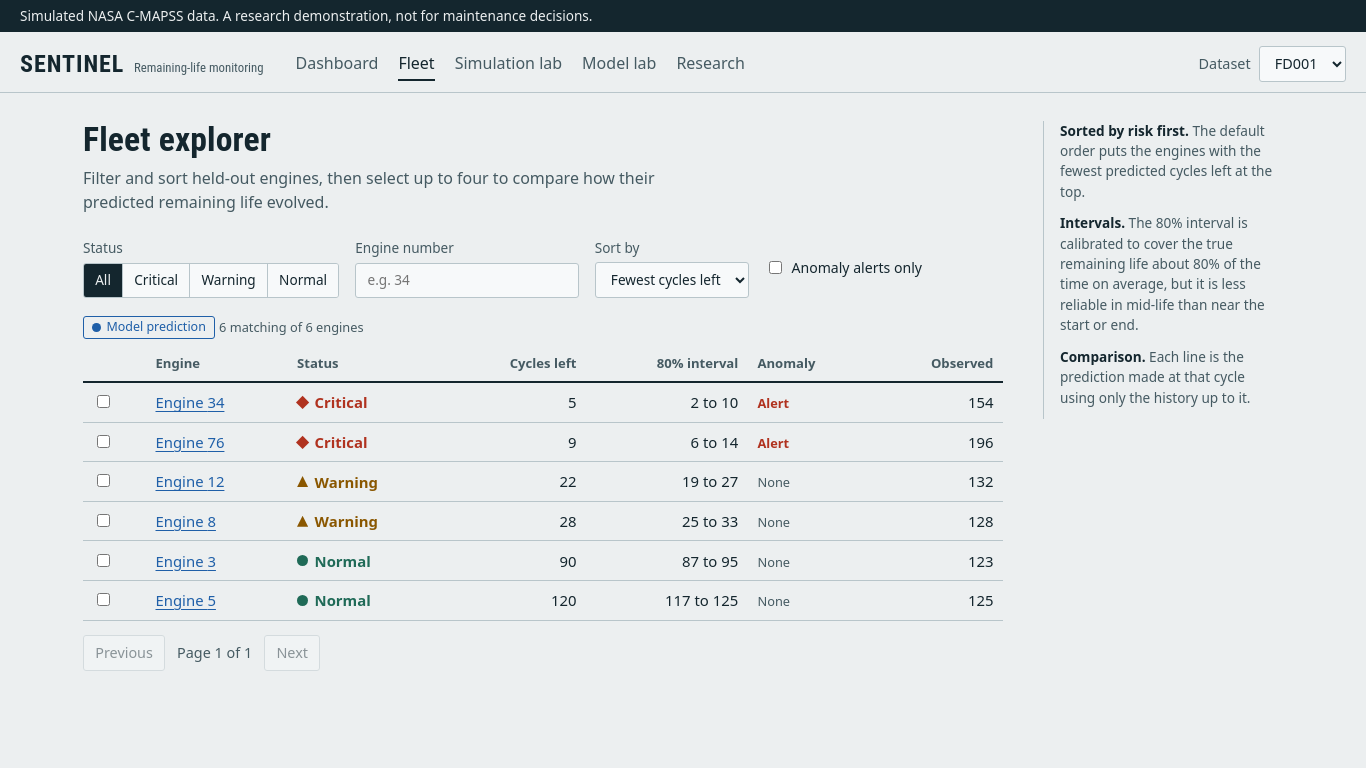
Test: fleet explorer and engine selection › limits comparison to four engines
expect the link "Engine 34" is shown: met, box [156,392,224,412]
Click the checkbox named "Compare engine 34" at (103, 402), box [97,395,110,408]
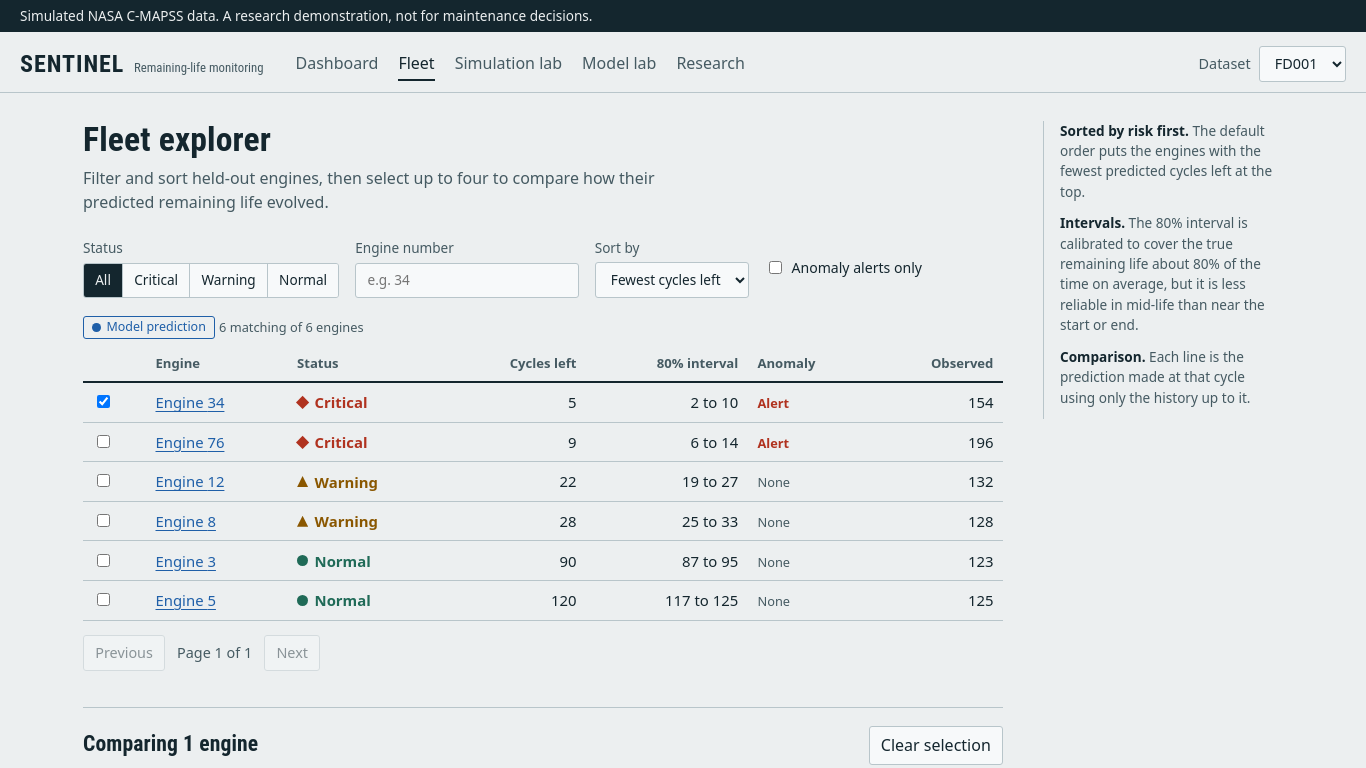
Click the checkbox named "Compare engine 76" at (103, 441), box [97,435,110,448]
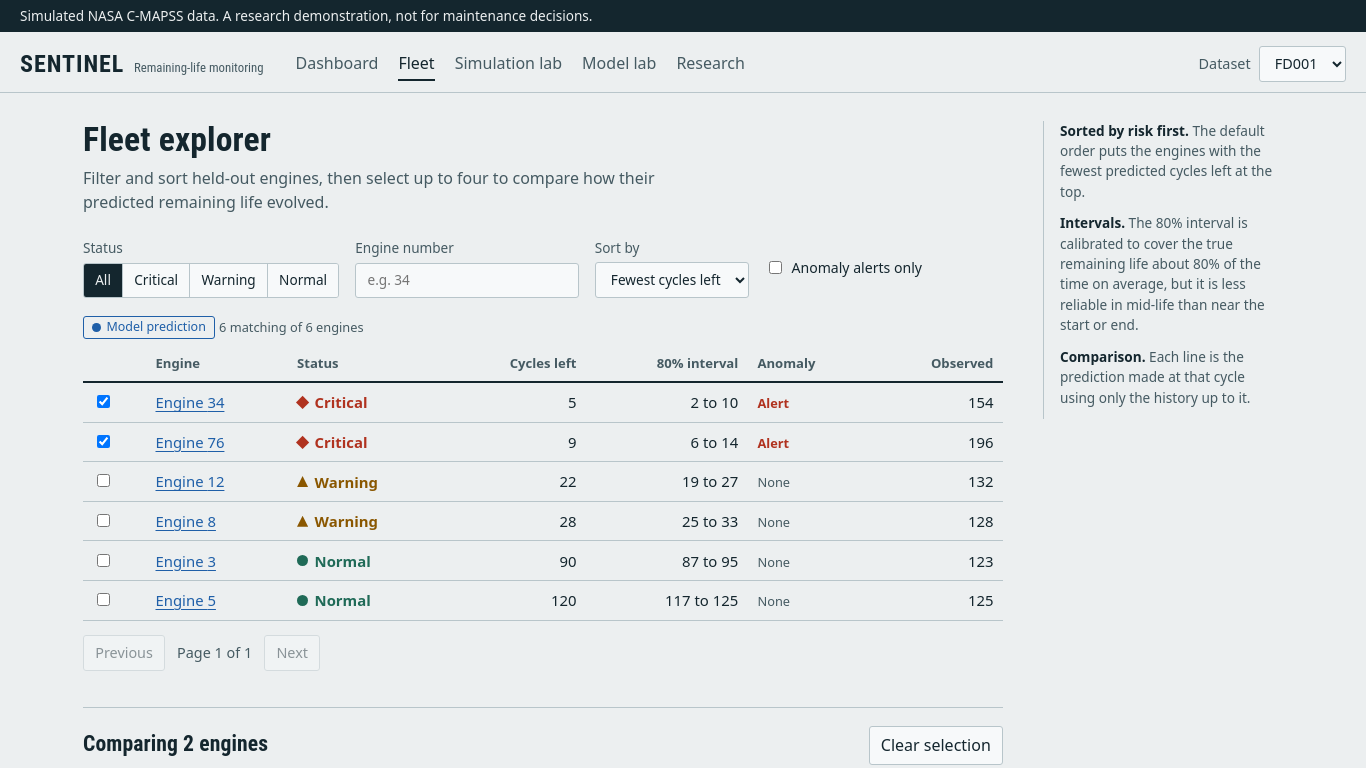
Click the checkbox named "Compare engine 12" at (103, 481), box [97,474,110,487]
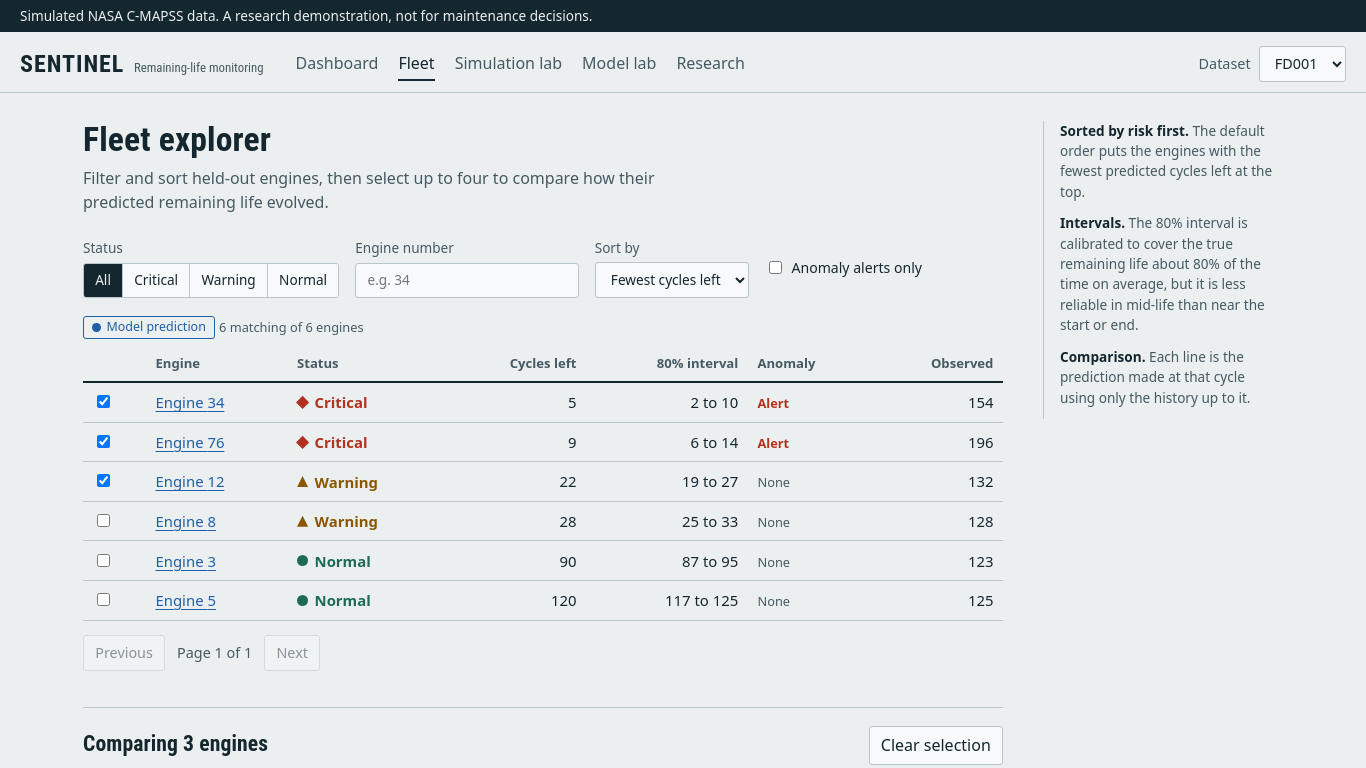
Click the checkbox named "Compare engine 8" at (103, 520), box [97,514,110,527]
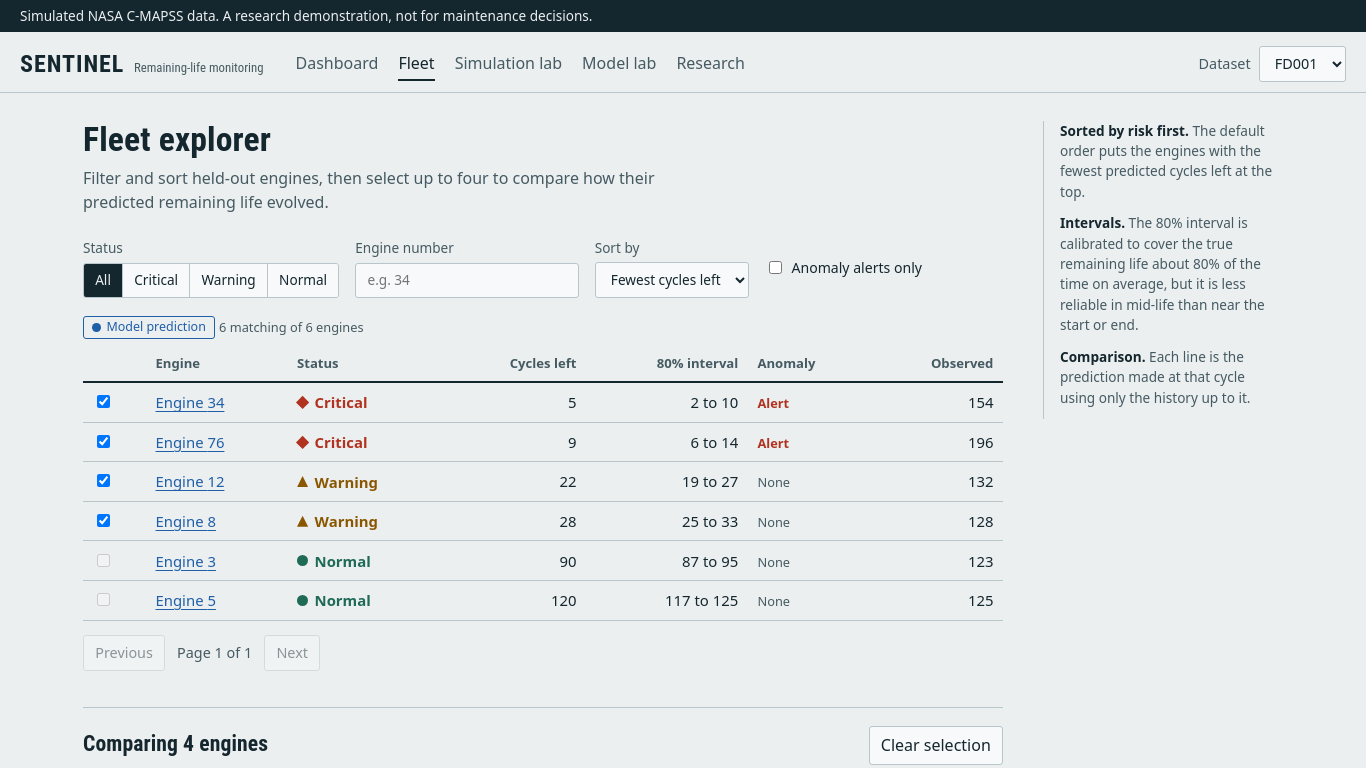
expect the checkbox named "Compare engine 3" is disabled: met, box [97,554,110,566]
expect the heading "Comparing 4 engines" is shown: met, box [83,732,268,757]
